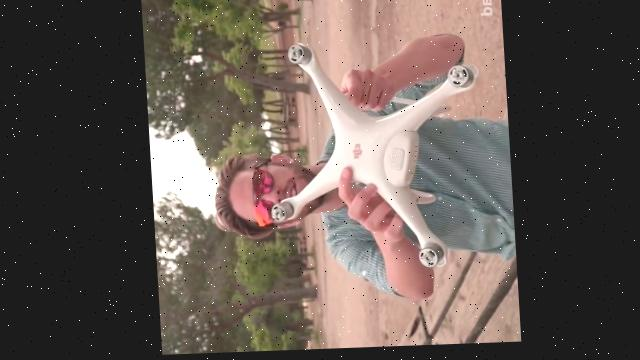drone: (258, 39, 487, 276)
